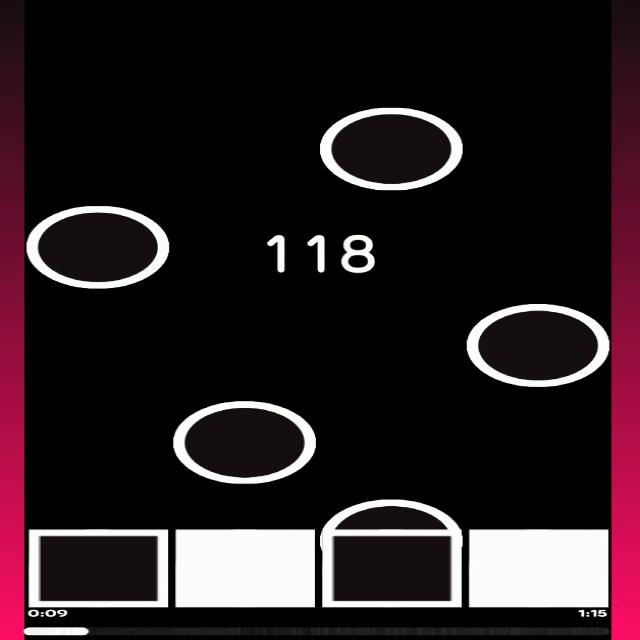note: (310, 101, 470, 194), (172, 396, 323, 486), (464, 298, 612, 387), (25, 205, 170, 288), (326, 494, 462, 532)
